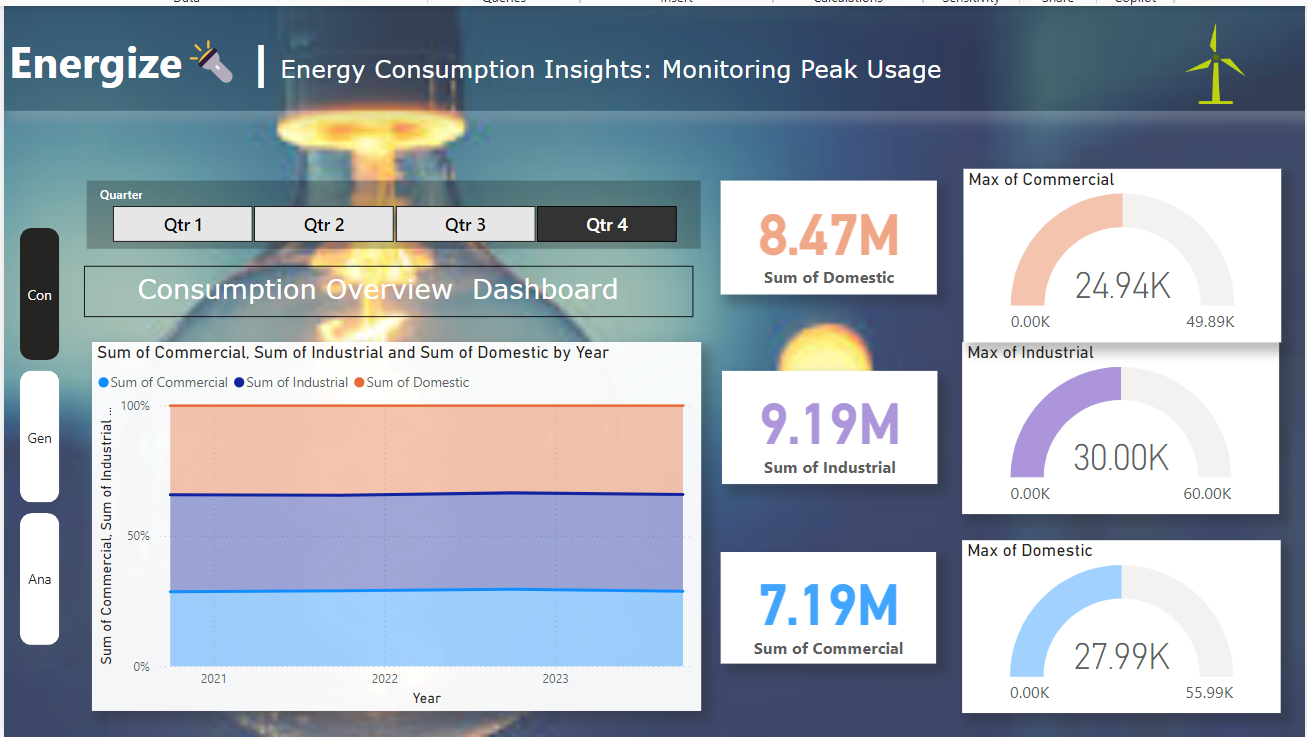

This screenshot's page, from the dashboard's own definition file:
{"tool":"powerbi","page":{"name":"Con","canvas":[1280,720],"ordinal":0},"visuals":[{"type":"card","fields":{"Values":["Sum(Energy.Domestic)"]},"box":[704.4,171.6,212.9,112.2],"z":0},{"type":"card","fields":{"Values":["Sum(Energy.Industrial)"]},"box":[705.7,358.6,211.6,110.9],"z":1000},{"type":"card","fields":{"Values":["Sum(Energy.Commercial)"]},"box":[704.4,536.7,211.6,109.7],"z":2000},{"type":"gauge","fields":{"Y":["Max(Energy.Domestic)"]},"box":[942.4,524.9,312.8,170.2],"z":3000},{"type":"gauge","fields":{"Y":["Max(Energy.Industrial)"]},"box":[942.4,329.8,311.5,168.8],"z":4000},{"type":"gauge","fields":{"Y":["Max(Energy.Commercial)"]},"box":[943.1,160,312.2,170.3],"z":5000},{"type":"slicer","fields":{"Values":["Energy.Date.Variation.Date Hierarchy.Quarter"]},"box":[80.9,171.5,603.8,67.1],"z":6000,"group":"g1"},{"type":"hundredPercentStackedAreaChart","fields":{"Category":["Energy.Date.Variation.Date Hierarchy.Year"],"Y":["Sum(Energy.Commercial)","Sum(Energy.Industrial)","Sum(Energy.Domestic)"]},"box":[86.4,330.3,598.6,362.5],"z":6000},{"type":"group","id":"g1","title":"Group 1","box":[80.9,171.5,603.8,67.1],"z":7000},{"type":"shape","box":[0,0,1279.8,103.2],"z":8000},{"type":"textbox","box":[0,19.4,941.8,103.2],"z":9000},{"type":"image","box":[1141.7,9,98,94.2],"z":10000},{"type":"textbox","box":[78.7,255.4,598.6,50.3],"z":11000},{"type":"pageNavigator","box":[15.5,218,40,411.5],"z":12002}]}

Visuals, with their boxes on the page's 1280x720 design canvas (x1, y1, x2, y2). These are canvas units, not pixel positions in the 1307x737 screenshot, which may show the page scaled, cropped or inside an application window:
card - Sum(Energy.Domestic): left=704, top=172, right=917, bottom=284
card - Sum(Energy.Industrial): left=706, top=359, right=917, bottom=470
card - Sum(Energy.Commercial): left=704, top=537, right=916, bottom=646
gauge - Max(Energy.Domestic): left=942, top=525, right=1255, bottom=695
gauge - Max(Energy.Industrial): left=942, top=330, right=1254, bottom=499
gauge - Max(Energy.Commercial): left=943, top=160, right=1255, bottom=330
slicer - Energy.Date.Variation.Date Hierarchy.Quarter: left=81, top=172, right=685, bottom=239
hundredPercentStackedAreaChart - Energy.Date.Variation.Date Hierarchy.Year x Sum(Energy.Commercial): left=86, top=330, right=685, bottom=693
"Group 1" group: left=81, top=172, right=685, bottom=239
shape: left=0, top=0, right=1280, bottom=103
textbox: left=0, top=19, right=942, bottom=123
image: left=1142, top=9, right=1240, bottom=103
textbox: left=79, top=255, right=677, bottom=306
pageNavigator: left=16, top=218, right=56, bottom=630
